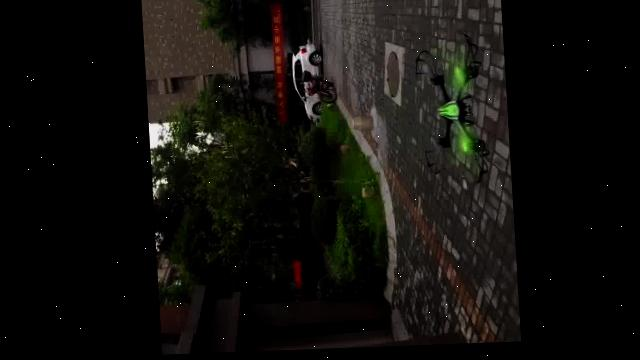drone: (406, 39, 492, 199)
